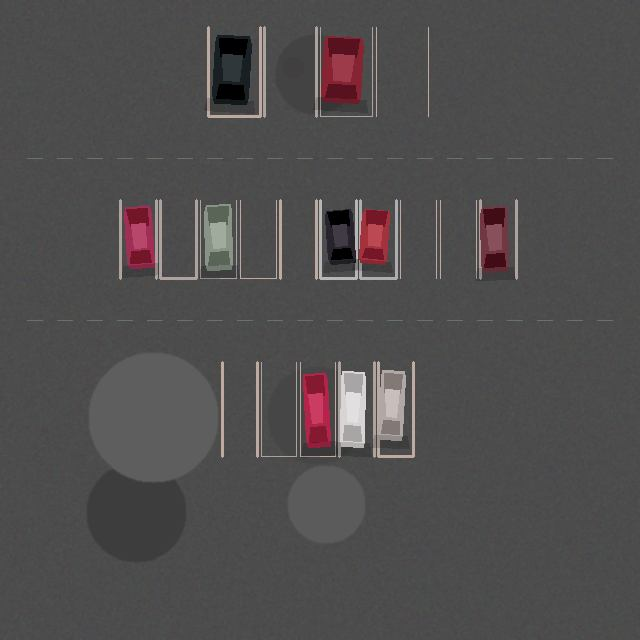space-empty: (264, 27, 316, 116), (376, 27, 428, 116), (222, 362, 257, 456), (261, 362, 296, 456), (160, 200, 196, 278), (240, 200, 276, 278), (280, 200, 316, 278), (400, 200, 436, 278), (440, 200, 476, 278)
space-occupied: (208, 27, 260, 116), (320, 27, 372, 116), (300, 362, 335, 456), (339, 362, 374, 456), (378, 362, 413, 456), (120, 200, 156, 278), (200, 200, 236, 278), (320, 200, 356, 278), (360, 200, 396, 278), (480, 200, 516, 278)
